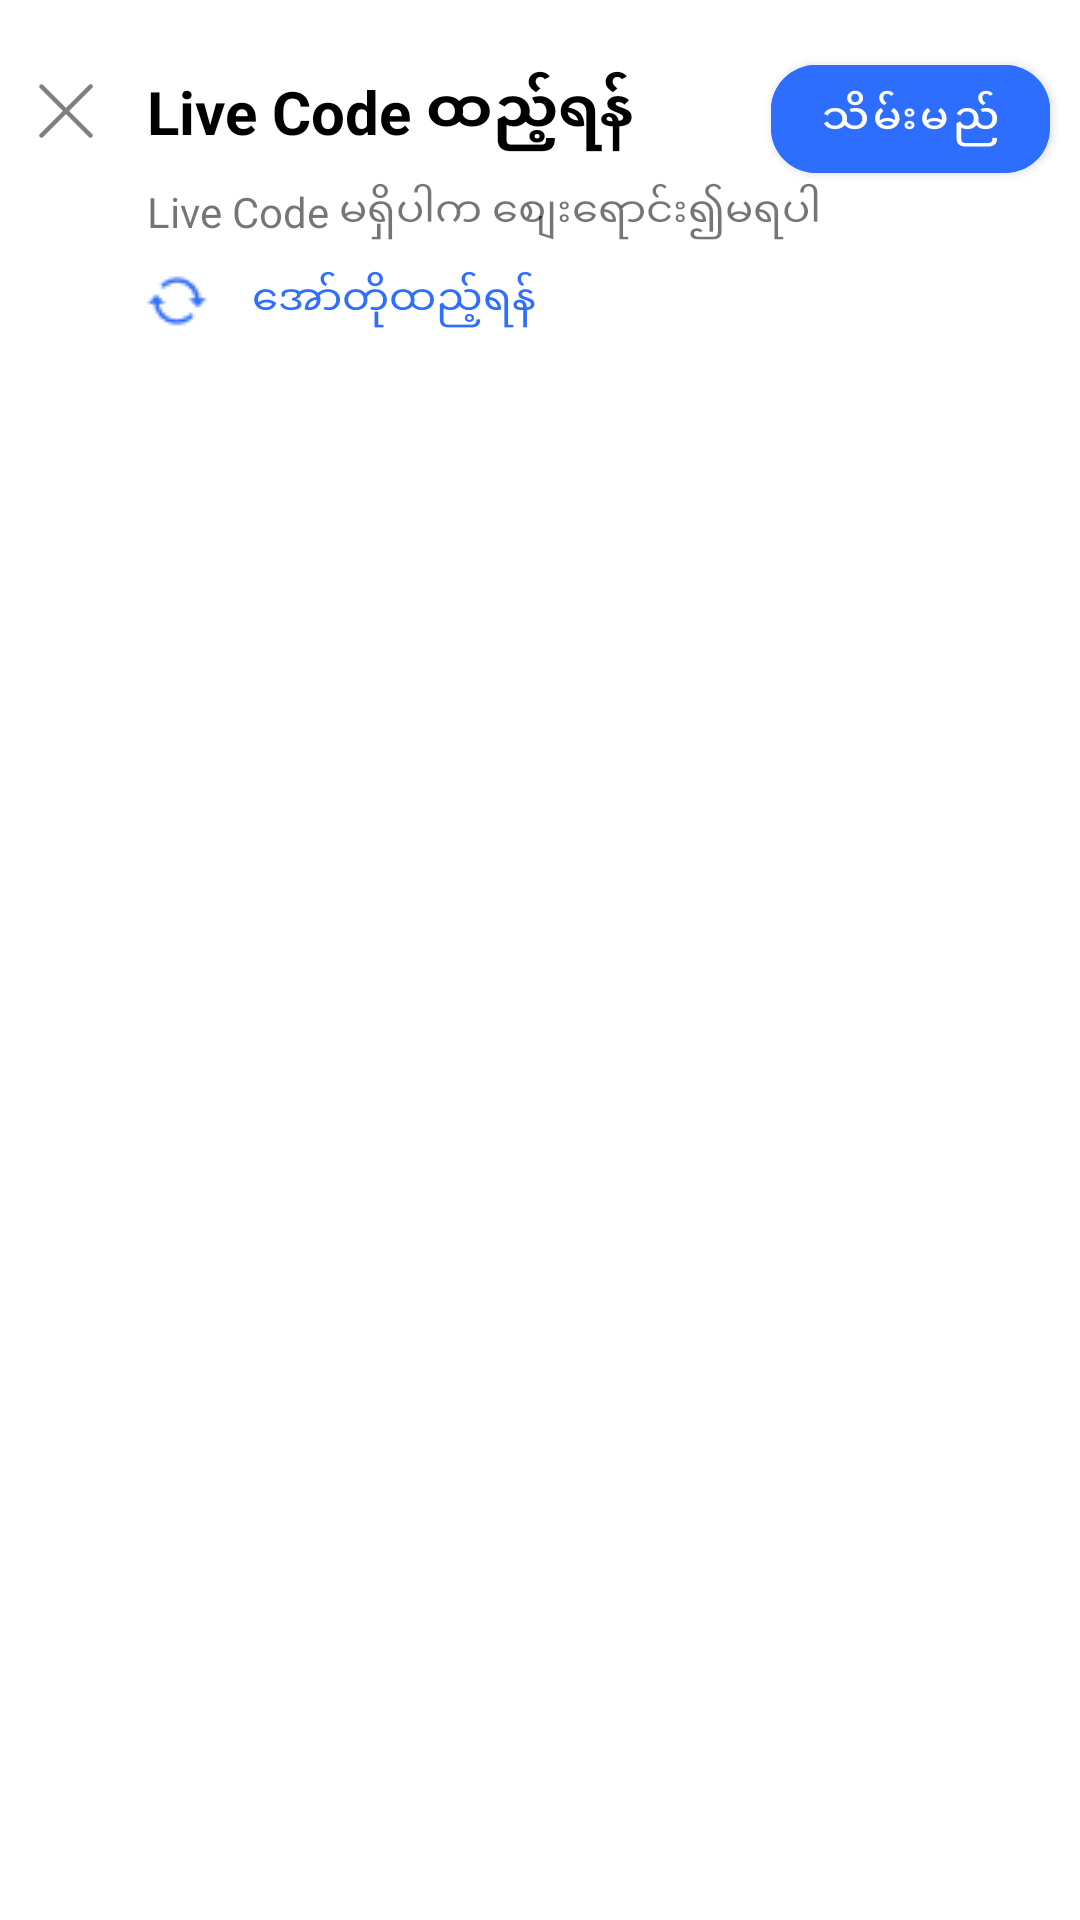

Screen size 1080w x 1920h. Icon name, then its center in pixels as (x,y):
fragment close: (66,111)
refresh: (177,301)
